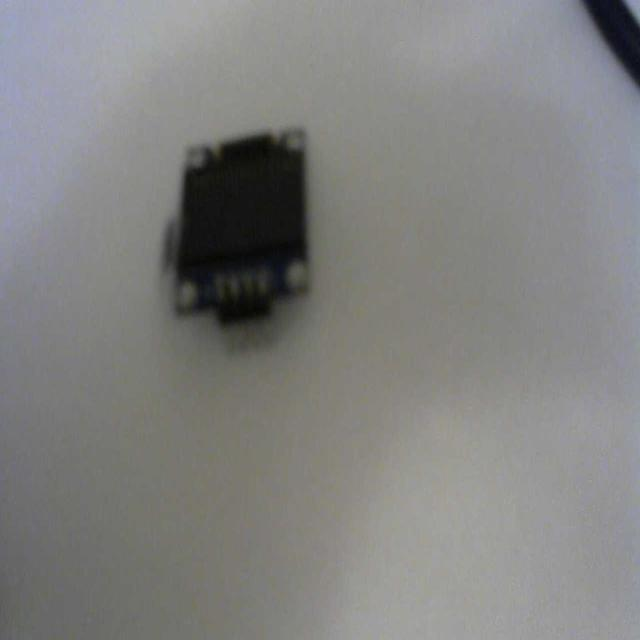oled: (155, 125, 318, 362)
